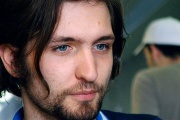male: (37, 20, 116, 120)
